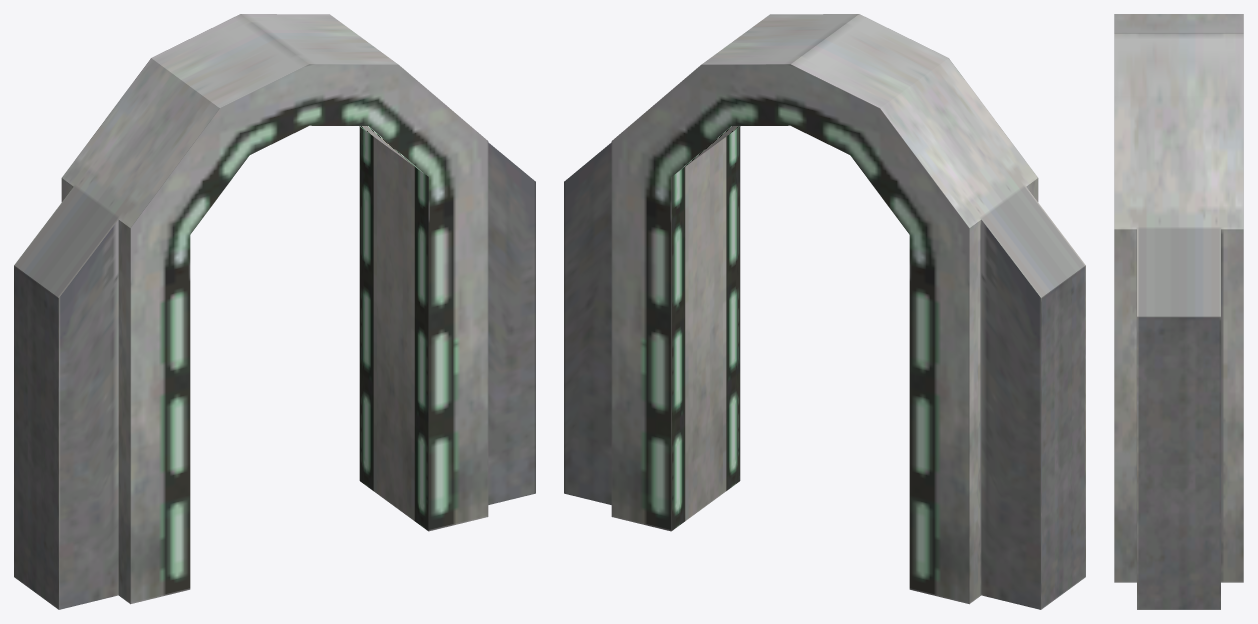
File: thm_corl_imprv_arch_sm_s01_l2.fbx
The picture shows the model from 3 angles, left to right: view 1: azimuth 30°, elevation 25°; view 2: azimuth 150°, elevation 25°; view 3: azimuth 270°, elevation 25°; orthographic projection. The views are drawn at different scales.
Visible parts, largest first — view 1: mesh_node; view 2: mesh_node; view 3: mesh_node.
Boxes of the visible parts, x1,y1,x2,y2 form: mesh_node: (14,14,535,609); mesh_node: (564,14,1085,609); mesh_node: (1114,14,1243,609).
Bounding box in the file's own units: 8 × 7.95 × 2.
Materials: 1 (1 with a texture image).
